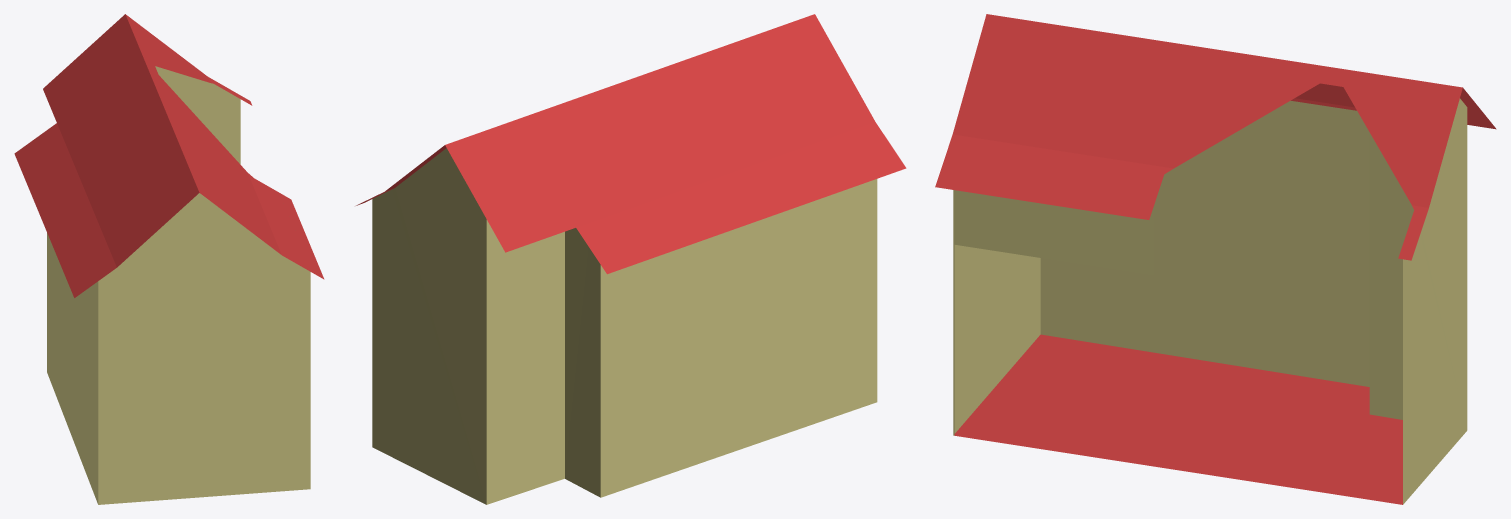
The picture shows the model from 3 angles, left to right: view 1: azimuth 30°, elevation 25°; view 2: azimuth 150°, elevation 25°; view 3: azimuth 270°, elevation 25°; orthographic projection. The views are drawn at different scales.
Bounding box in the file's own units: 16.07 × 19.82 × 14.23.
